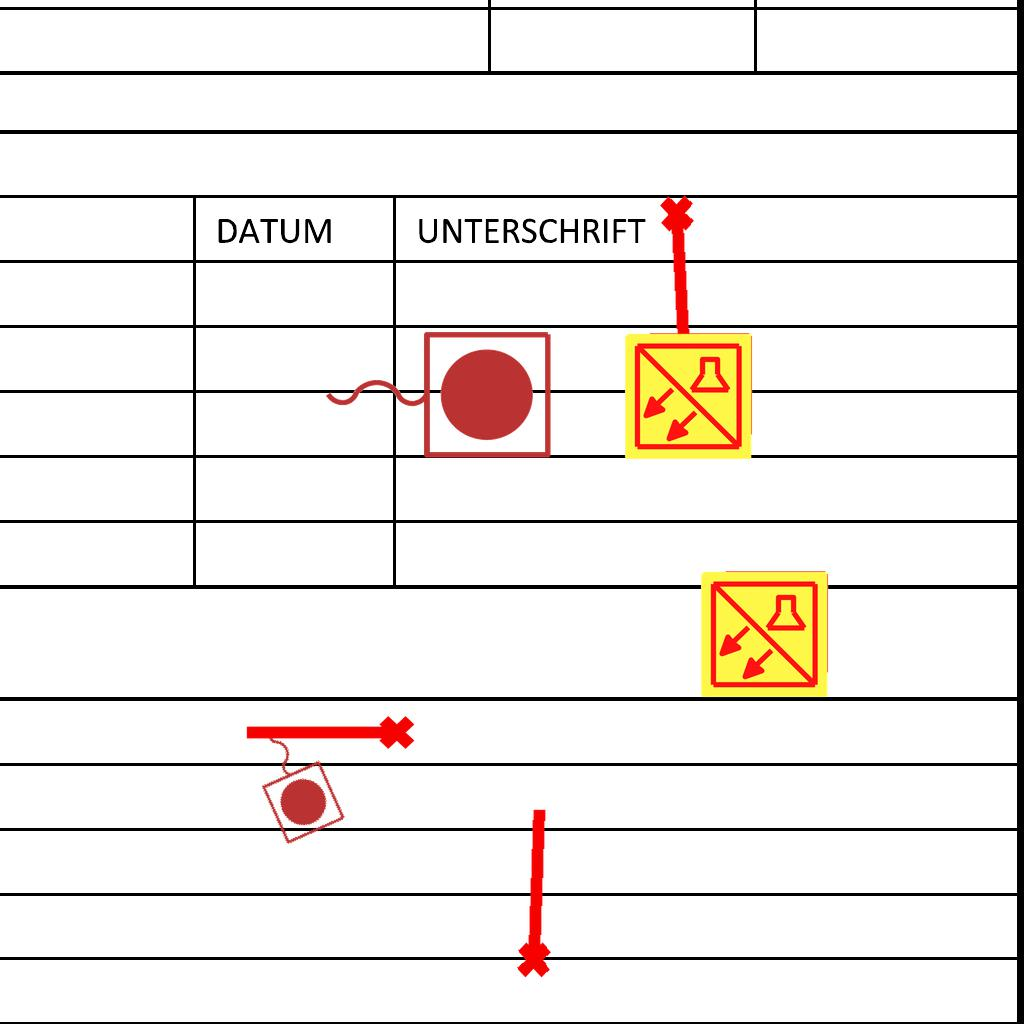ASR_Ansaugoeffnung: (655, 191, 711, 371), (507, 803, 561, 981), (241, 712, 417, 758)
OKW_Multisensormelder_(Kombination_optischer_Rauch-Kahlenmonoxid_Waerme-Melder): (698, 568, 830, 700), (622, 330, 754, 462)
Zugtaster: (315, 321, 559, 465), (236, 708, 352, 850)
